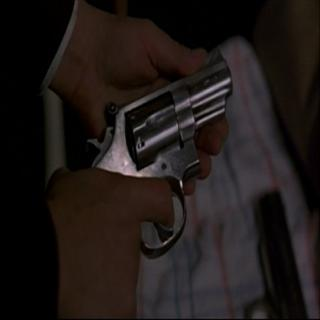gun: (78, 42, 237, 319)
